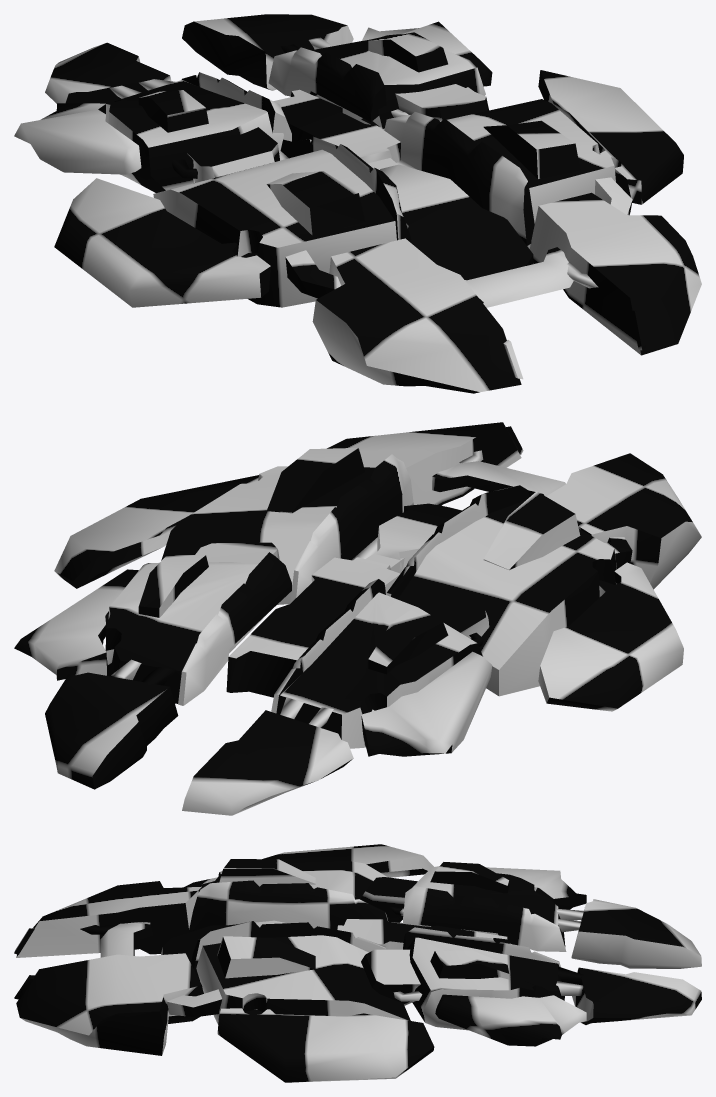
Rendered from devolarium_boss.obj.
3 views of the same model, one above another, from view 1: azimuth 30°, elevation 25°; view 2: azimuth 150°, elevation 25°; view 3: azimuth 270°, elevation 25° (orthographic). The views are drawn at different scales.
Visible parts, largest first — view 1: devolarium_boss; view 2: devolarium_boss; view 3: devolarium_boss.
Part boxes in pixels (box(x1,y1,x2,y2)): devolarium_boss: box(14, 14, 701, 393); devolarium_boss: box(14, 422, 701, 815); devolarium_boss: box(14, 844, 701, 1082).
Size of the model in its own units: 8.31 by 1.76 by 11.34.
1 material, 1 textured.
